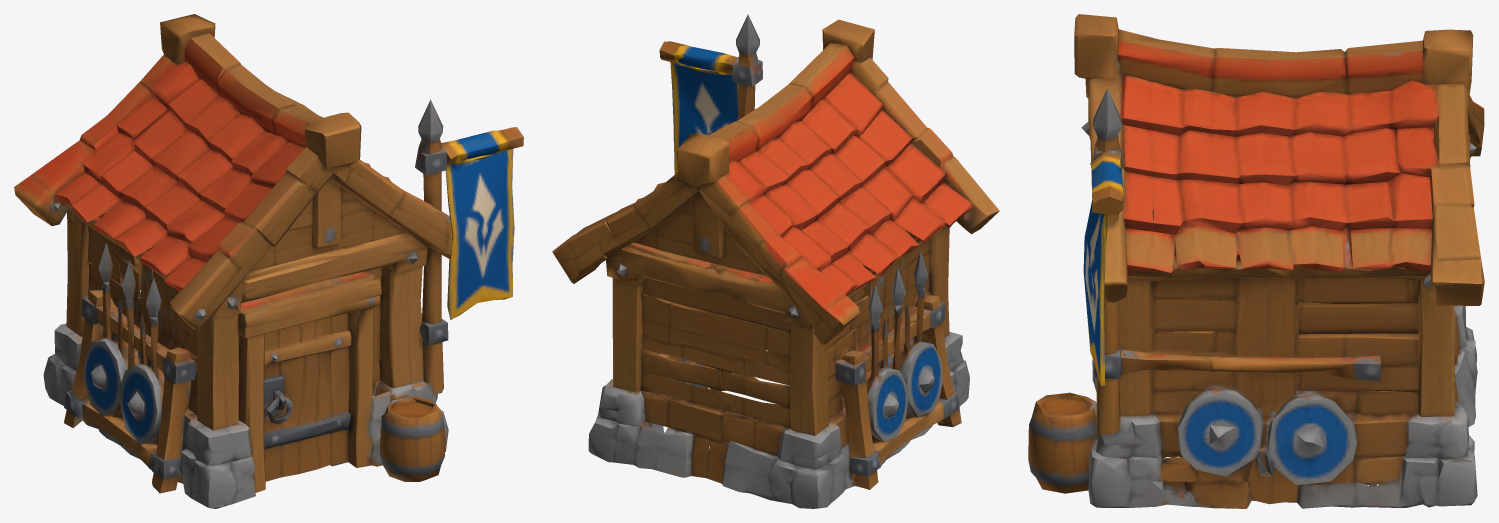
Rendered from barracks_1.glb.
3 renders of one model, left to right at view 1: azimuth 30°, elevation 25°; view 2: azimuth 150°, elevation 25°; view 3: azimuth 270°, elevation 25°, orthographic. The views are drawn at different scales.
Visible parts, largest first — view 1: Body; view 2: Body; view 3: Body.
Boxes of the visible parts, box(x1,y1,x2,y2) form: Body: box(14, 14, 523, 508); Body: box(552, 14, 999, 508); Body: box(1028, 14, 1484, 508).
Bounding box in the file's own units: 3.5 × 3.48 × 3.41.
1 material, 1 textured.
